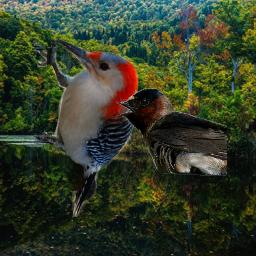Swallow: (115, 88, 227, 176)
Woodpecker: (34, 39, 138, 217)
